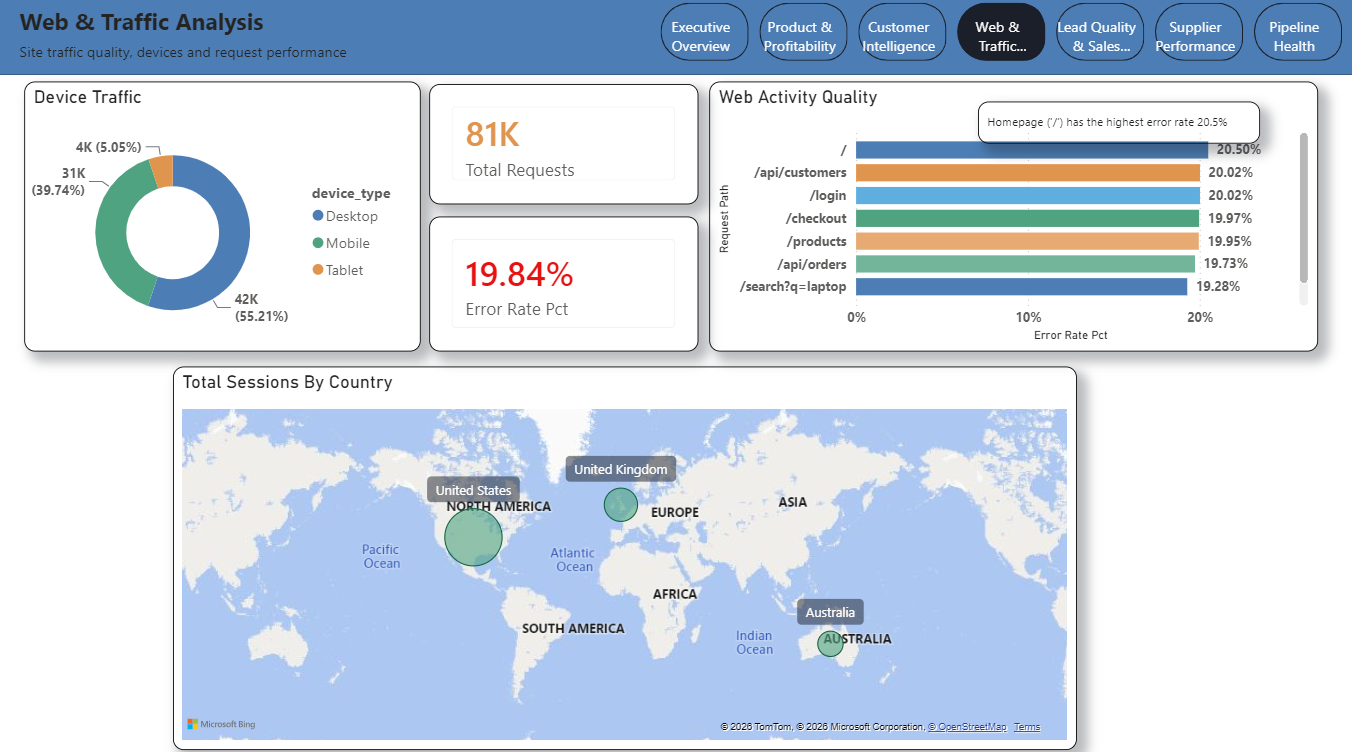

This screenshot's page, from the dashboard's own definition file:
{"tool":"powerbi","page":{"name":"Web & Traffic Analytics","canvas":[1280,720],"ordinal":3},"visuals":[{"type":"donutChart","title":"Device Traffic","fields":{"Category":["marts vw_traffic_by_device.device_type"],"Y":["Sum(marts vw_traffic_by_device.total_sessions)"]},"box":[33.7,86,368.6,251.2],"z":0},{"type":"shape","box":[0,0,1280,80],"z":1000},{"type":"map","title":"Total Sessions By Country","fields":{"Category":["marts vw_geographic_web_traffic.country","marts vw_geographic_web_traffic.city"],"Size":["Sum(marts vw_geographic_web_traffic.total_sessions)"]},"box":[171.8,351.3,841,356.4],"z":2000},{"type":"barChart","title":"Web Activity Quality","fields":{"Category":["marts vw_web_activity_quality.request_path"],"Y":["Sum(marts vw_web_activity_quality.error_rate_pct)"]},"box":[670.9,86,566.3,251.2],"z":3000},{"type":"cardVisual","fields":{"Data":["Sum(marts vw_web_activity_quality.total_requests)"]},"box":[410.5,88.4,250,111.6],"z":4000},{"type":"cardVisual","fields":{"Data":["Average(marts vw_web_activity_quality.error_rate_pct)"]},"box":[410.5,211.6,250,125.6],"z":5000},{"type":"textbox","box":[24.4,10.5,550,43],"z":6000},{"type":"textbox","box":[24.4,44.2,550,36],"z":7000},{"type":"pageNavigator","box":[625.6,12.8,634.9,54.7],"z":8000},{"type":"textbox","box":[920.9,104.7,262.8,39.5],"z":13000}]}

Visuals, with their boxes in screenshot pixels (x1, y1, x2, y2), scaled from the page's 1280x720 canvas onto the 1352x752 screenshot:
"Device Traffic" donutChart: box(36, 90, 425, 352)
shape: box(0, 0, 1351, 84)
"Total Sessions By Country" map: box(181, 367, 1070, 739)
"Web Activity Quality" barChart: box(709, 90, 1307, 352)
cardVisual - Sum(marts vw_web_activity_quality.total_requests): box(434, 92, 698, 209)
cardVisual - Average(marts vw_web_activity_quality.error_rate_pct): box(434, 221, 698, 352)
textbox: box(26, 11, 607, 56)
textbox: box(26, 46, 607, 84)
pageNavigator: box(661, 13, 1331, 70)
textbox: box(973, 109, 1250, 151)
